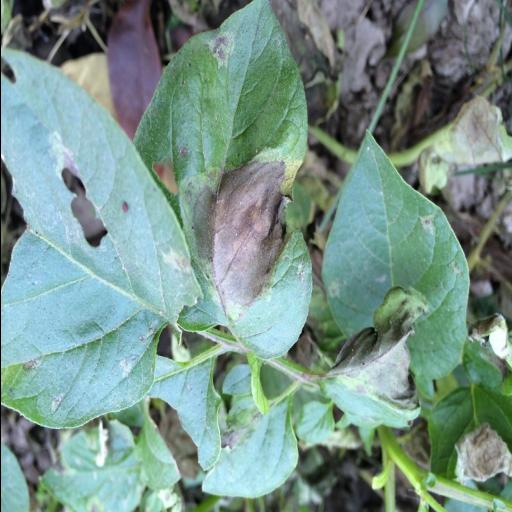Late Blight: (204, 134, 318, 374), (315, 292, 425, 438)
